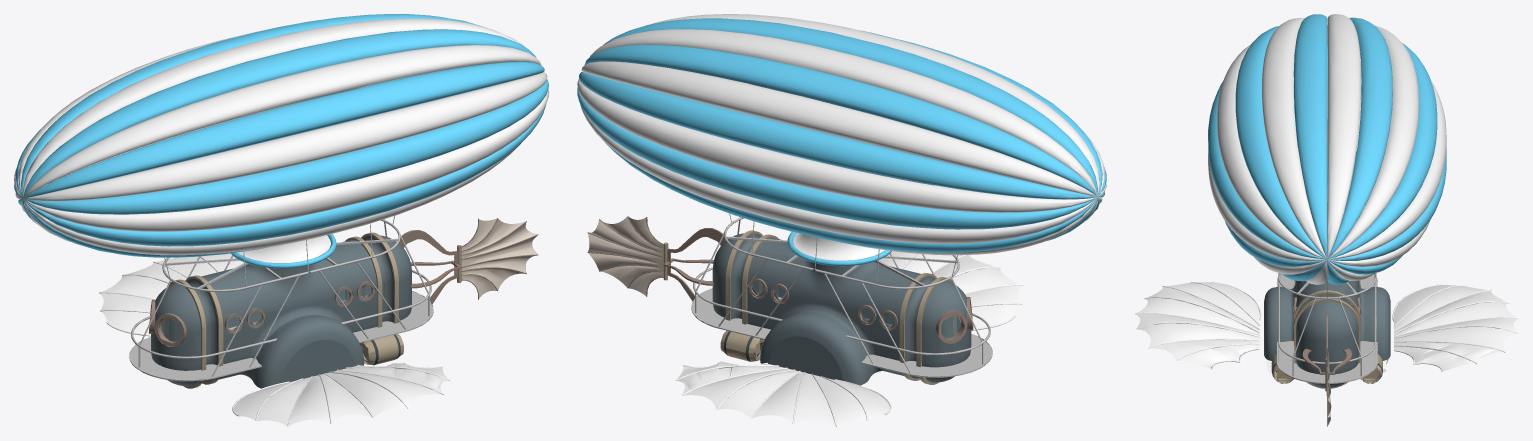
3 renders of one model, left to right at view 1: azimuth 30°, elevation 25°; view 2: azimuth 150°, elevation 25°; view 3: azimuth 270°, elevation 25°, orthographic. The views are drawn at different scales.
Visible parts, largest first — view 1: a; view 2: a; view 3: a.
Boxes of the visible parts, x1,y1,x2,y2 form: a: [14, 14, 548, 426]; a: [577, 14, 1106, 426]; a: [1135, 14, 1518, 426].
Size of the model in its own units: 82.08 by 60.58 by 52.15.
